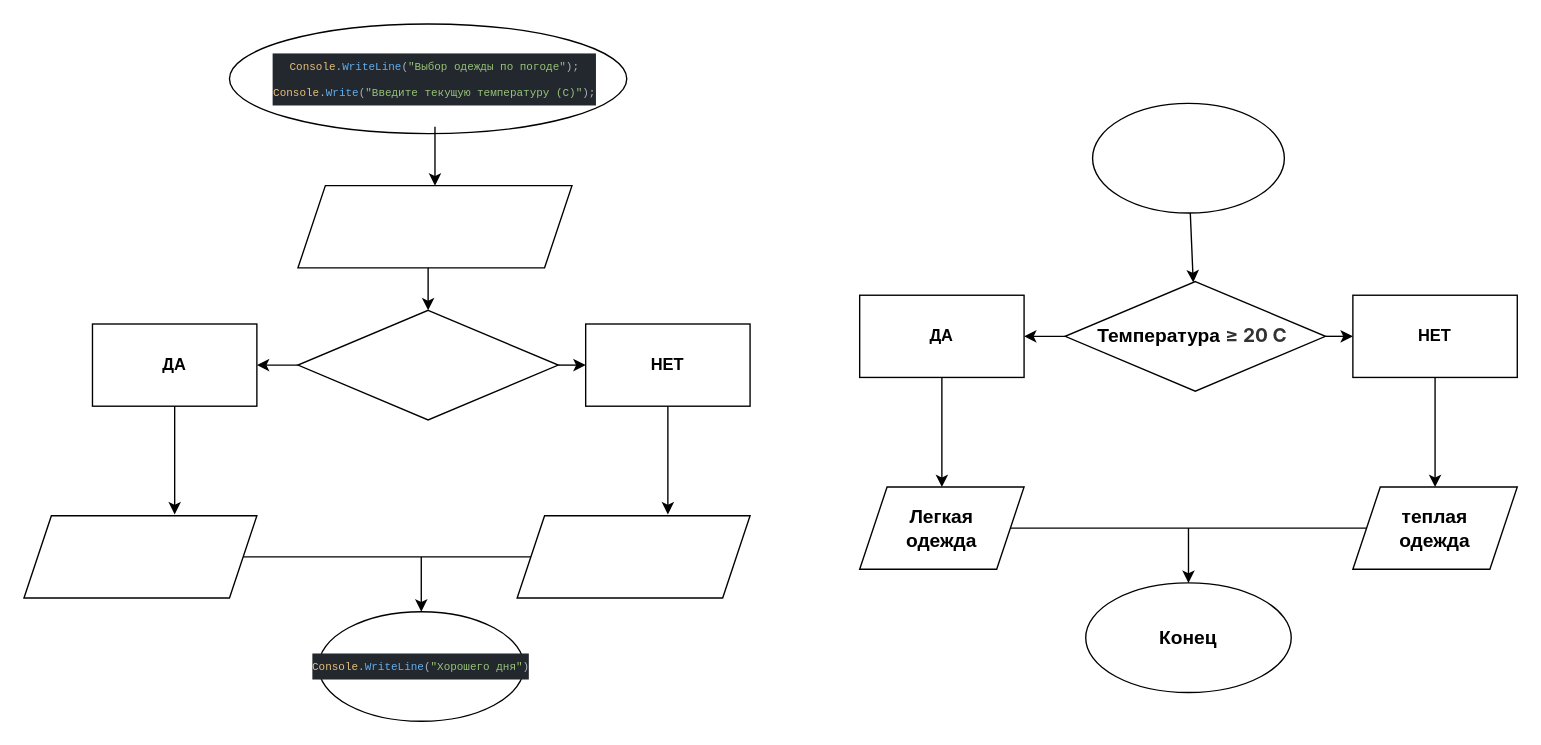
Some shapes in this 1541 by 745 pixel diagram are drawn without their labels. Each missing label, with the centre of its shape:
Console . WriteLine ( "Наденьте легкую одежду" ): (x=140, y=556)
Console . WriteLine ( "Наденьте тёплую одежду" ): (x=633, y=556)
if ( temperature >= 20 ): (x=427, y=364)
int temperature = Convert . ToInt32 ( Console . ReadLine ());: (x=434, y=226)
Начало: (x=1187, y=157)
